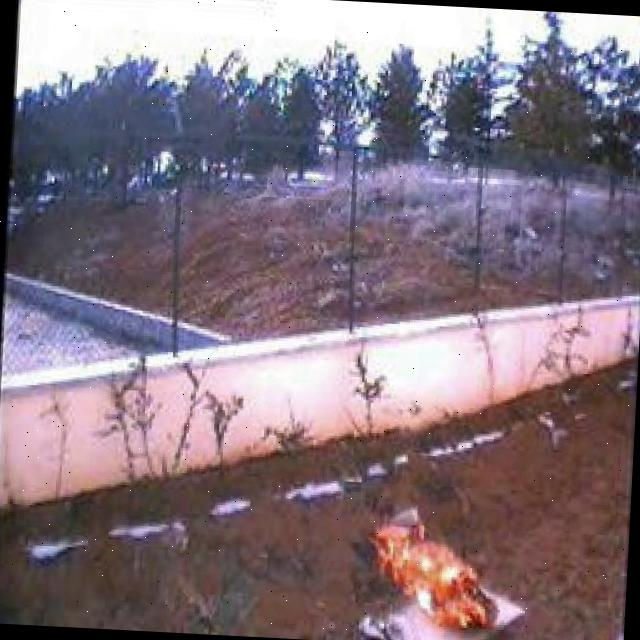fire: (374, 526, 502, 638)
